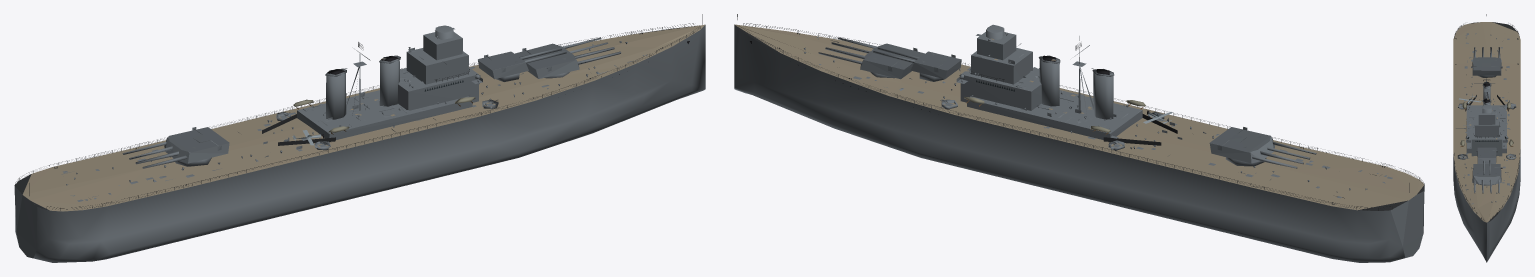
Rendered from kgv_lod.glb.
3 views of the same model, side by side, from view 1: azimuth 30°, elevation 25°; view 2: azimuth 150°, elevation 25°; view 3: azimuth 270°, elevation 25° (orthographic). The views are drawn at different scales.
Visible parts, largest first — view 1: kgv_lod; view 2: kgv_lod; view 3: kgv_lod.
Boxes of the visible parts, x1,y1,x2,y2 form: kgv_lod: [14, 14, 705, 262]; kgv_lod: [734, 14, 1424, 262]; kgv_lod: [1453, 14, 1520, 262].
Size of the model in its own units: 227 by 45.98 by 31.39.
